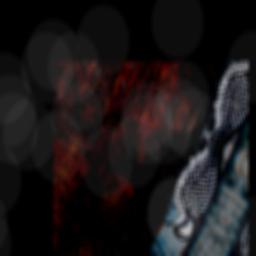Woodpecker: (149, 124, 233, 253)
